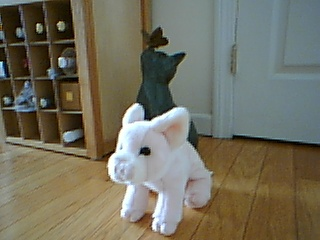piggy: (106, 101, 216, 237)
